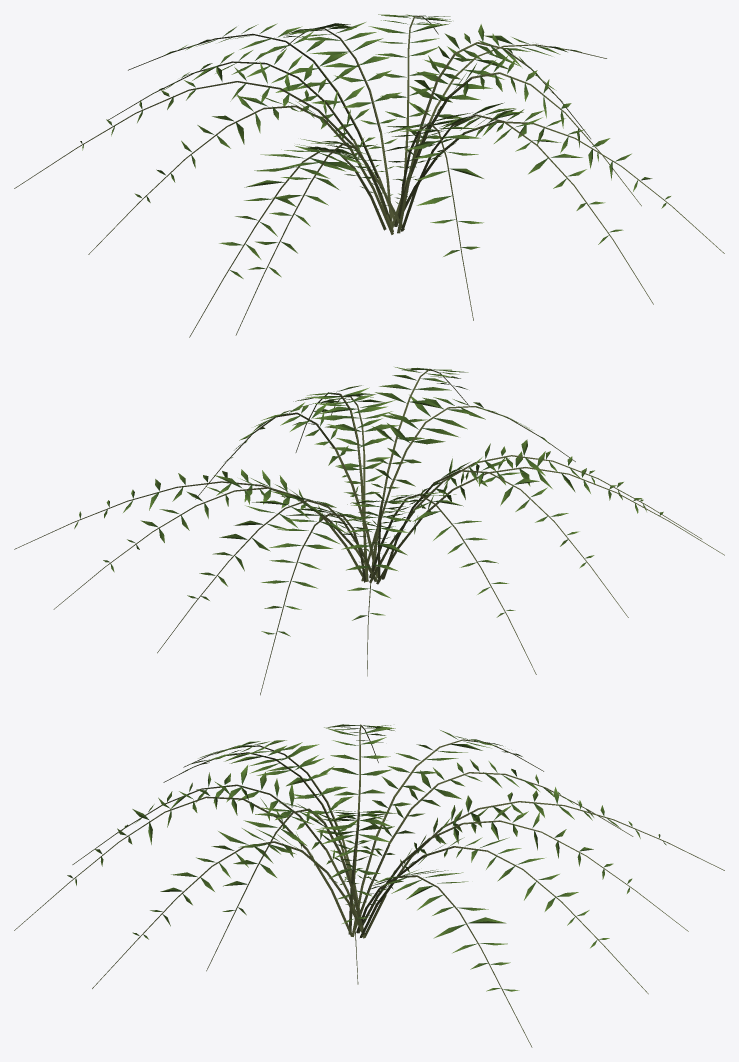
File: forest_fern_002_a_LOD2.gltf
The picture shows the model from 3 angles, top to bottom: view 1: azimuth 30°, elevation 25°; view 2: azimuth 150°, elevation 25°; view 3: azimuth 270°, elevation 25°; orthographic projection. The views are drawn at different scales.
Visible parts, largest first — view 1: forest_fern_002_a_LOD2; view 2: forest_fern_002_a_LOD2; view 3: forest_fern_002_a_LOD2.
Boxes of the visible parts, box(x1,y1,x2,y2) form: forest_fern_002_a_LOD2: box(14, 14, 724, 337); forest_fern_002_a_LOD2: box(14, 367, 724, 695); forest_fern_002_a_LOD2: box(14, 724, 724, 1047).
Size of the model in its own units: 4 by 1.07 by 4.36.
1 material, 1 textured.
